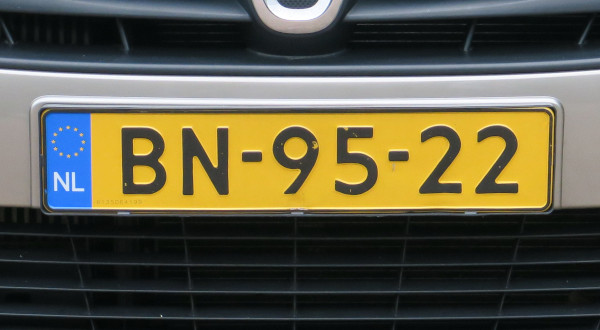license_plate: (40, 109, 554, 212)
